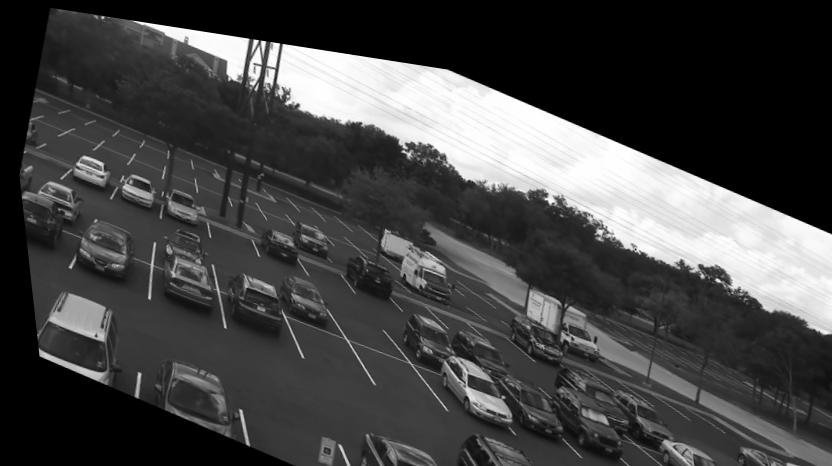empty: (232, 382, 342, 466), (347, 333, 432, 397), (281, 311, 354, 365), (327, 292, 401, 344), (613, 422, 675, 466), (204, 213, 257, 250), (97, 202, 149, 238), (469, 312, 524, 342), (18, 146, 68, 178), (297, 251, 345, 281), (648, 375, 702, 401), (424, 294, 476, 321), (620, 367, 668, 391), (442, 265, 486, 290), (583, 352, 628, 374), (40, 135, 79, 160), (389, 283, 433, 305), (123, 154, 162, 178), (190, 177, 229, 201), (225, 191, 265, 214), (214, 250, 255, 272), (92, 141, 130, 164), (510, 352, 551, 373), (220, 179, 254, 201), (356, 237, 393, 257), (160, 166, 192, 189), (58, 128, 96, 147), (324, 227, 362, 246), (261, 176, 292, 199), (99, 134, 133, 154), (27, 116, 64, 134), (251, 190, 285, 209), (163, 143, 192, 165), (131, 146, 164, 165), (161, 159, 194, 177), (193, 168, 224, 187), (281, 198, 312, 217), (88, 147, 117, 167), (312, 213, 345, 230), (342, 222, 375, 239), (290, 191, 319, 210), (30, 97, 68, 111), (38, 112, 73, 127), (188, 151, 215, 170), (258, 202, 290, 218), (139, 134, 167, 152), (71, 124, 102, 140), (339, 210, 370, 226), (316, 201, 343, 218), (116, 126, 139, 143), (63, 107, 89, 122), (88, 118, 114, 132), (324, 241, 352, 252), (246, 214, 269, 225)
occupied: (29, 287, 121, 386), (148, 349, 222, 433), (423, 341, 504, 412), (543, 369, 615, 437), (487, 358, 559, 424), (340, 418, 436, 466), (438, 418, 532, 466), (217, 263, 280, 332), (69, 211, 130, 279), (651, 420, 725, 466), (157, 245, 208, 308), (504, 298, 562, 353), (17, 186, 65, 252), (550, 350, 617, 397), (394, 232, 446, 292), (443, 315, 504, 365), (609, 370, 663, 424), (730, 424, 795, 466), (274, 267, 326, 317), (396, 301, 448, 349), (339, 245, 388, 292), (33, 180, 79, 217), (68, 152, 108, 190), (255, 221, 292, 259), (289, 212, 328, 248), (162, 183, 195, 220), (156, 225, 196, 255), (117, 170, 150, 204)
